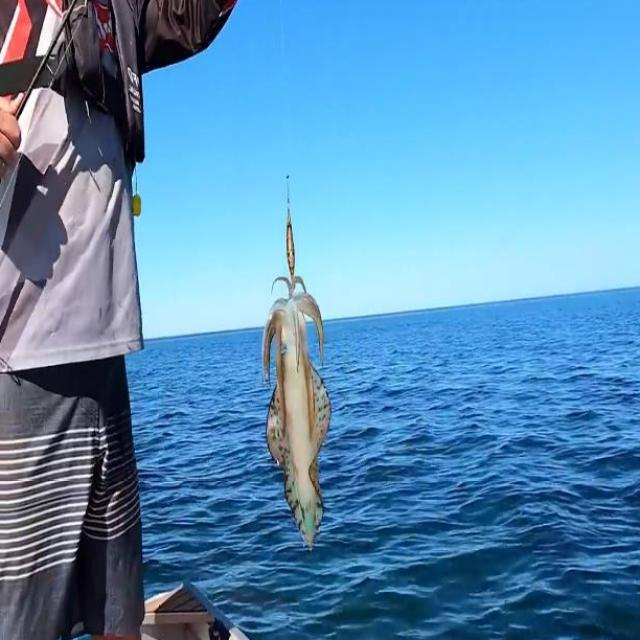SQUID: (256, 246, 336, 568)
